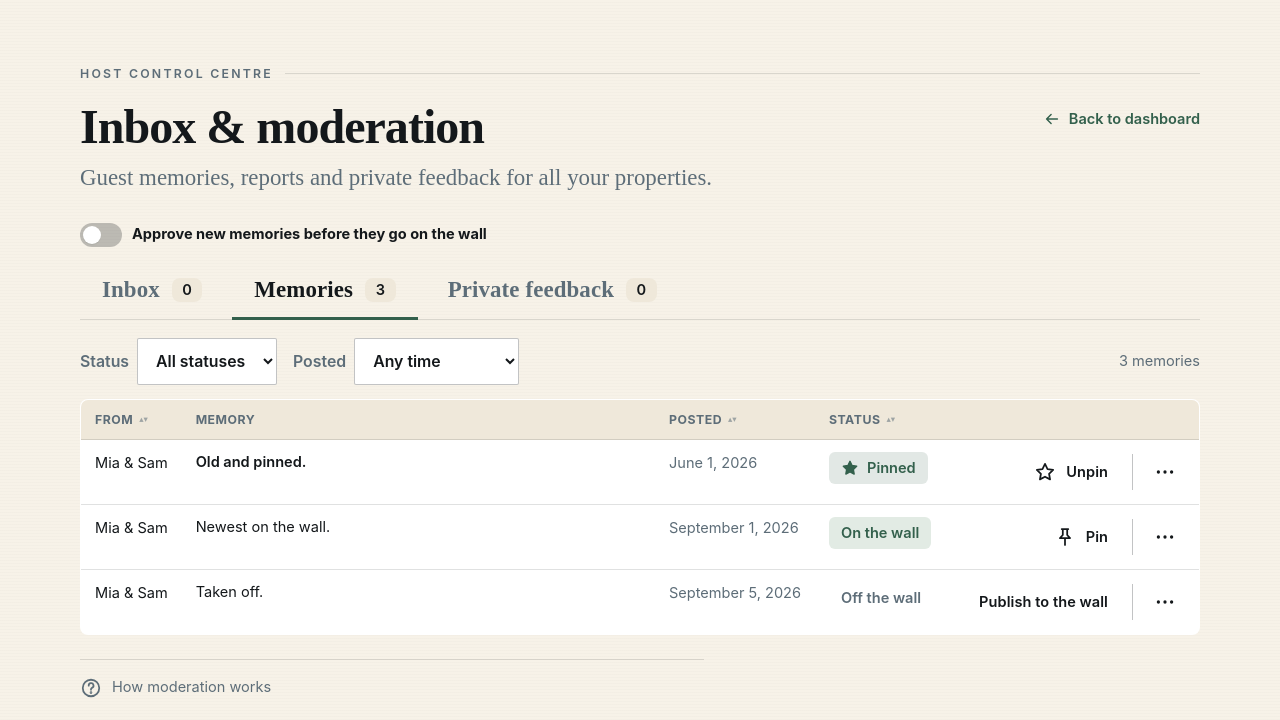
the memories table › leads with pinned memories, sorts by a clicked column, and goes back to pinned first
Step 1. Click the button "Posted ▴▾" → click(703, 420), box [669,410,737,429]
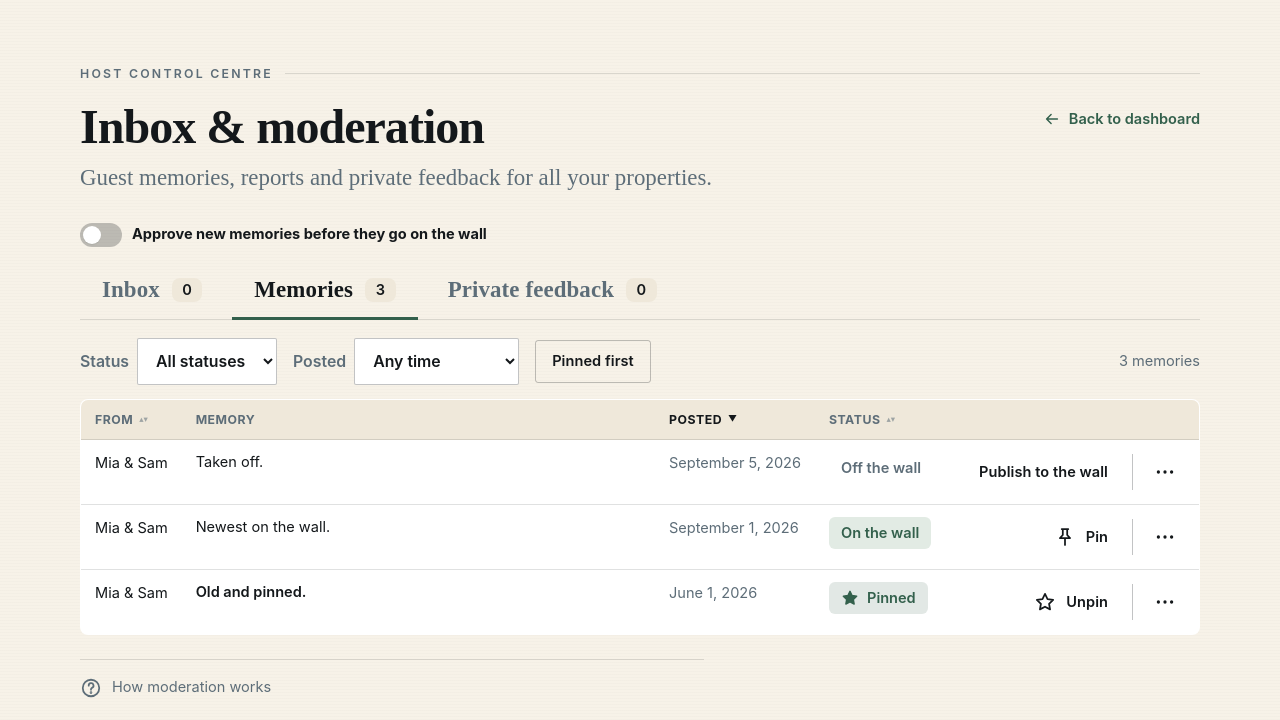
Expected: the column heading "Posted ▼" has attribute aria-sort="descending", [655,399,815,440]
Step 2. Click the button "Posted ▼" → click(703, 420), box [669,410,737,429]
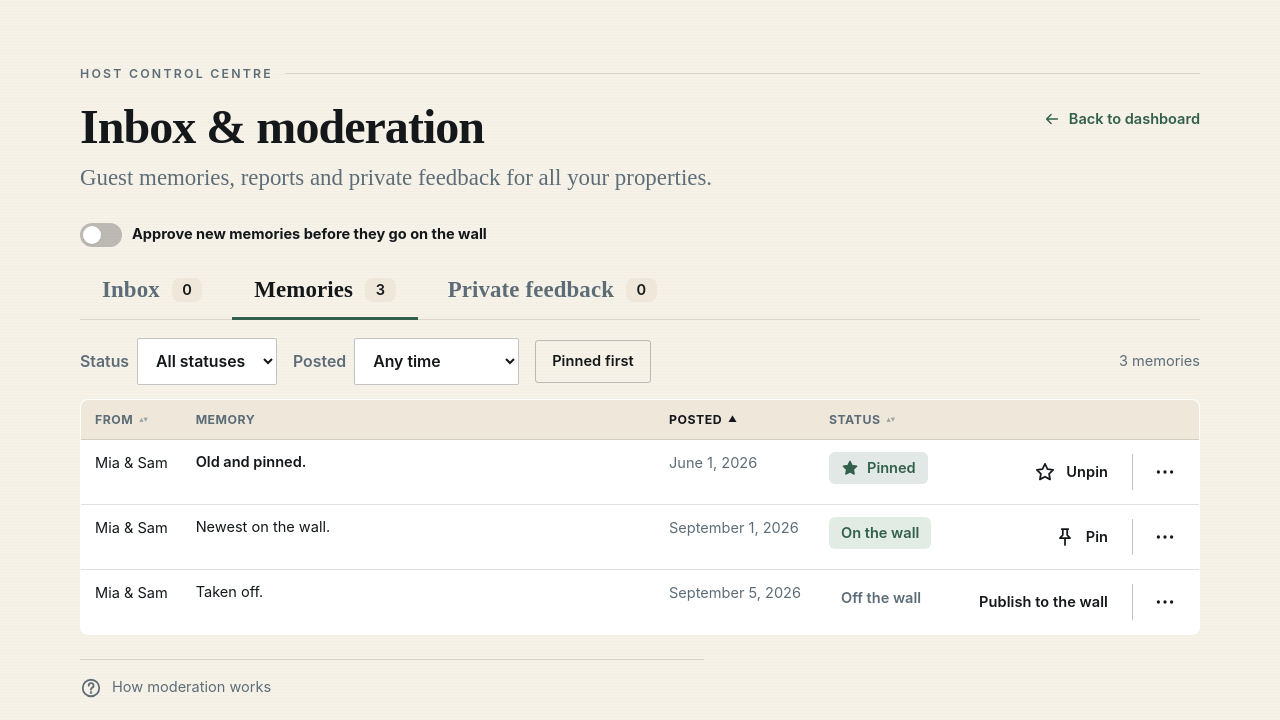
Expected: the column heading "Posted ▲" has attribute aria-sort="ascending", [655,399,815,440]
Step 3. Click the button "Pinned first" → click(593, 361), box [535,340,651,383]
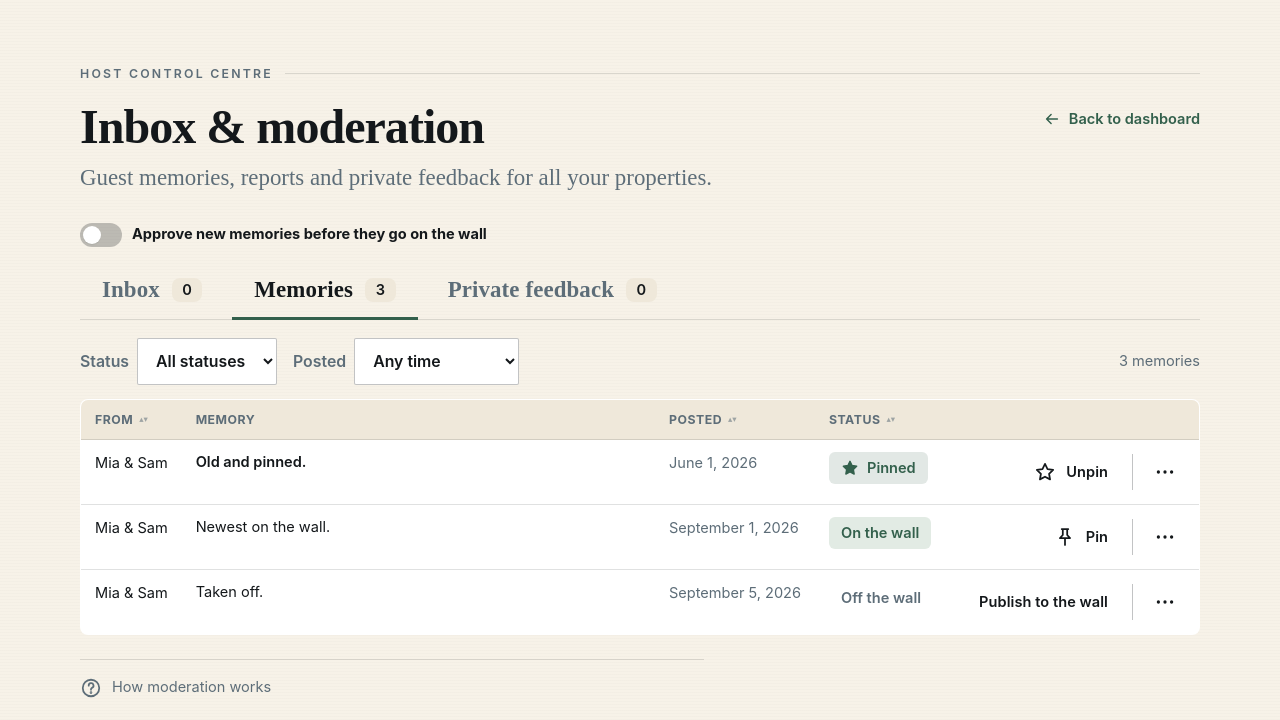
Expected: the button "Pinned first" is gone
